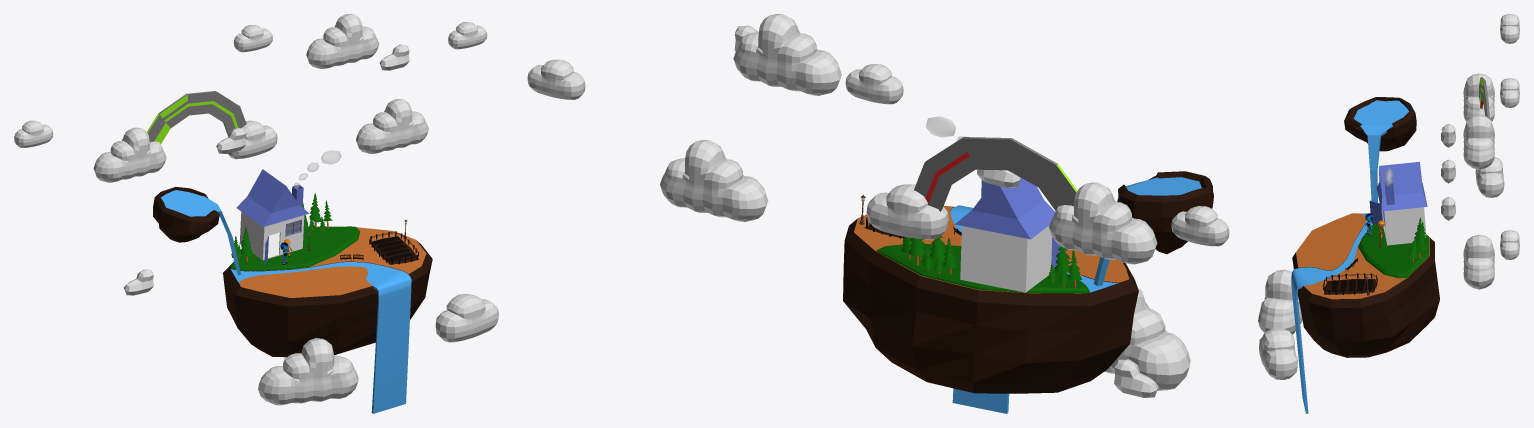
File: minilands (1).fbx
The picture shows the model from 3 angles, left to right: view 1: azimuth 30°, elevation 25°; view 2: azimuth 150°, elevation 25°; view 3: azimuth 270°, elevation 25°; orthographic projection. The views are drawn at different scales.
Parts seen in each view (by area): view 1: MAP_mini (×21); view 2: MAP_mini (×17); view 3: MAP_mini (×21).
Part boxes in pixels (x1,y1,x2,y2): MAP_mini (×21): (14, 14, 498, 413); MAP_mini (×17): (527, 14, 1229, 413); MAP_mini (×21): (1258, 14, 1519, 413).
Size of the model in its own units: 47048 by 30337 by 23001.
